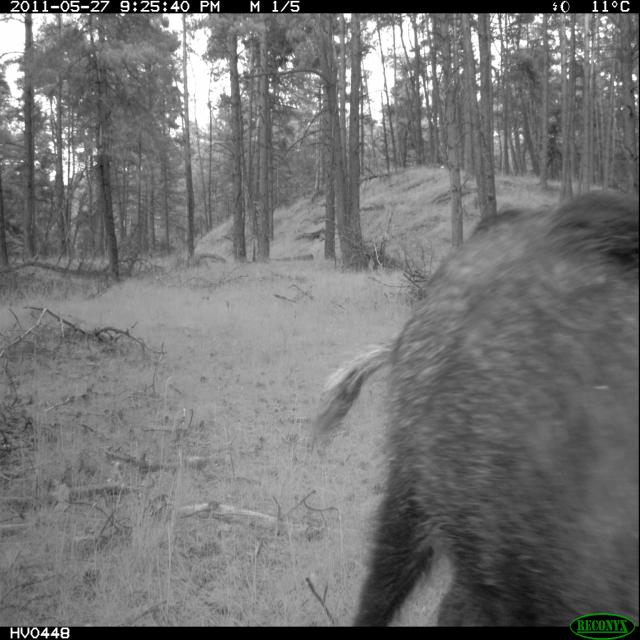boar: (264, 217, 636, 635)
